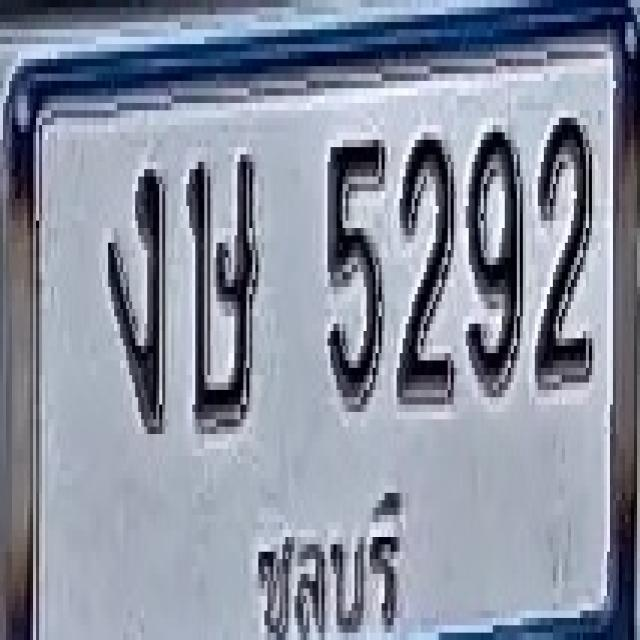2: (535, 110, 592, 382), (396, 132, 454, 398)
5: (328, 133, 384, 404)
9: (468, 125, 522, 390)
A07: (105, 162, 165, 427)
A39: (186, 147, 258, 427)
CBI: (251, 463, 408, 640)
